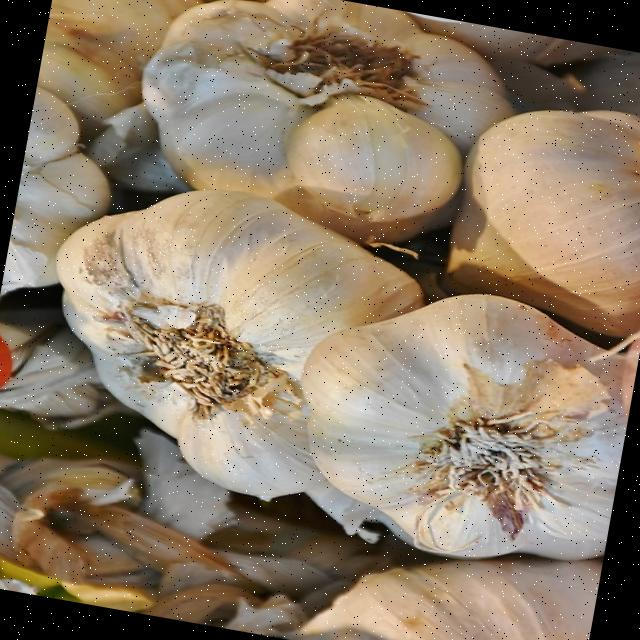garlic: (57, 189, 420, 497), (142, 0, 511, 241), (302, 295, 626, 558), (445, 109, 640, 335)
